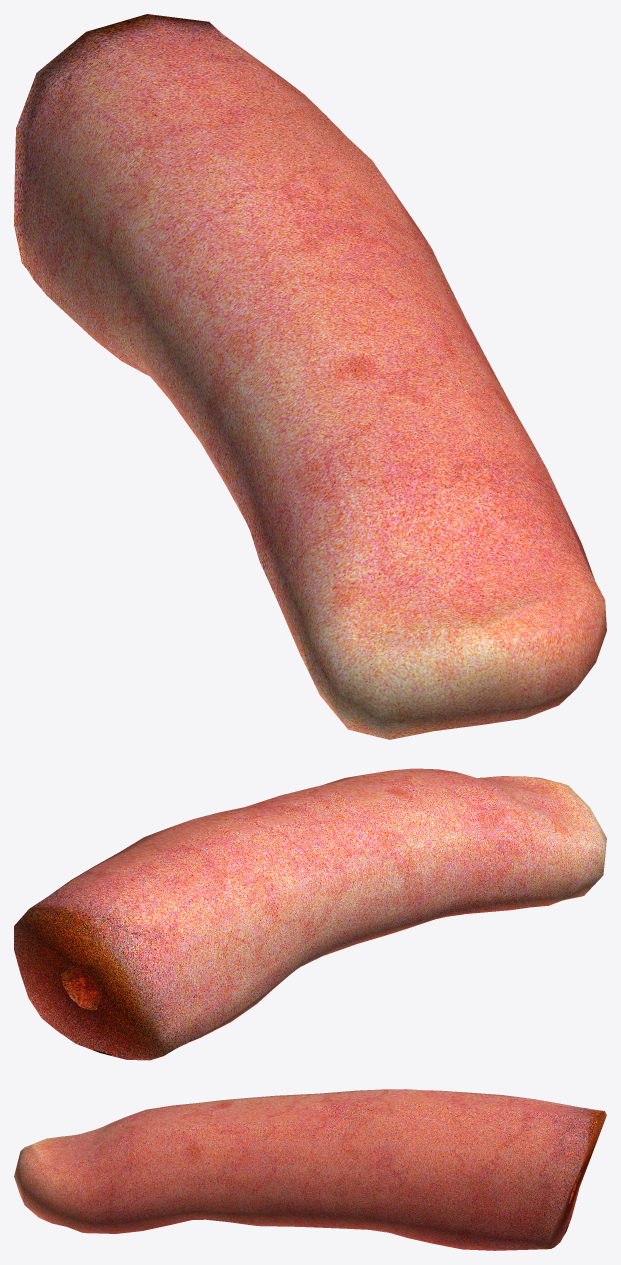
The picture shows the model from 3 angles, top to bottom: view 1: azimuth 30°, elevation 25°; view 2: azimuth 150°, elevation 25°; view 3: azimuth 270°, elevation 25°; orthographic projection. The views are drawn at different scales.
Parts seen in each view (by area): view 1: hand_mesh.003; view 2: hand_mesh.003; view 3: hand_mesh.003.
Part boxes in pixels (bbox=[...]): hand_mesh.003: bbox=[14, 14, 606, 739]; hand_mesh.003: bbox=[14, 768, 606, 1060]; hand_mesh.003: bbox=[14, 1089, 606, 1250].
Size of the model in its own units: 0.1399 by 0.0939 by 0.3299.
1 material, 1 textured.
